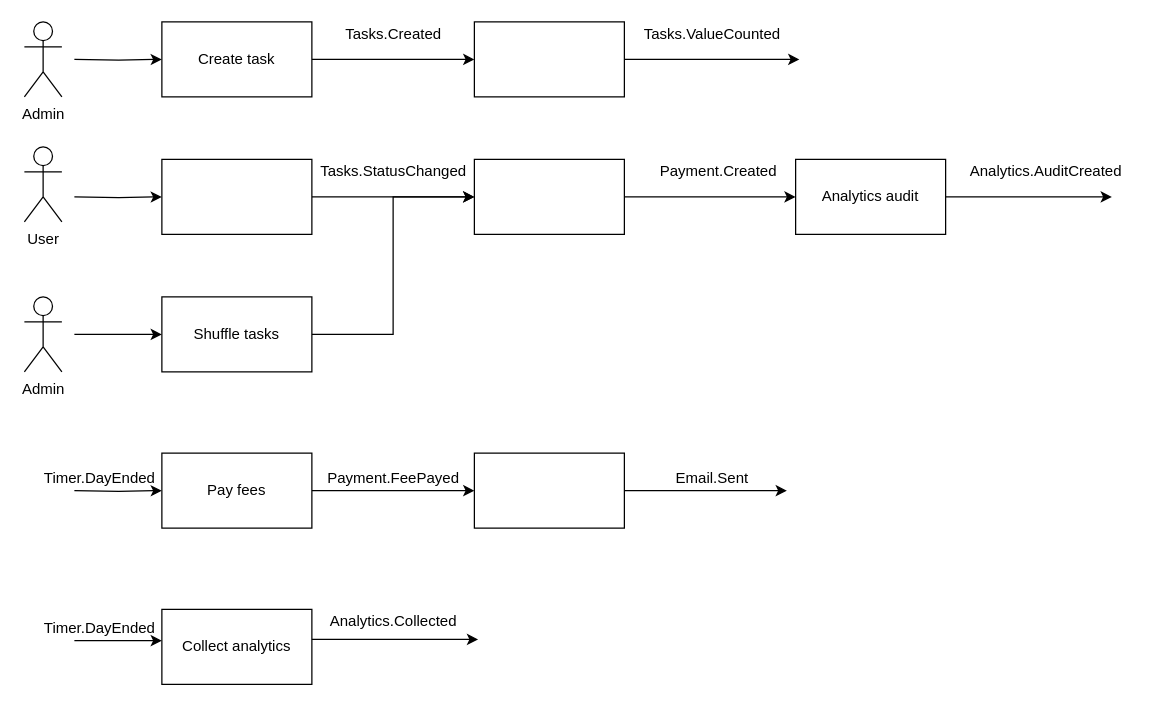
Image size: 1154x706. Some labels were removed from this diagram. Each missing label, with the centre of its shape:
"Count task fee" goes at point 548,59.
"Email notification" goes at point 548,490.
"Finish task" goes at point 236,196.
"Make payment" goes at point 548,196.
